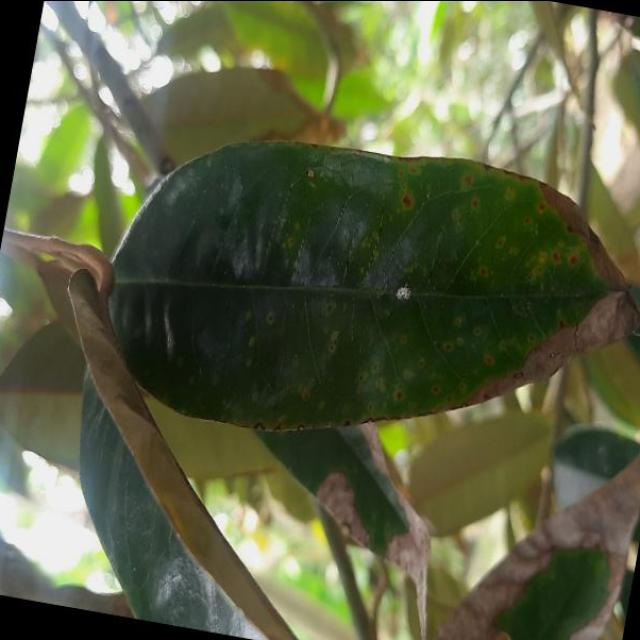Leaf Spot: (79, 94, 640, 500)
